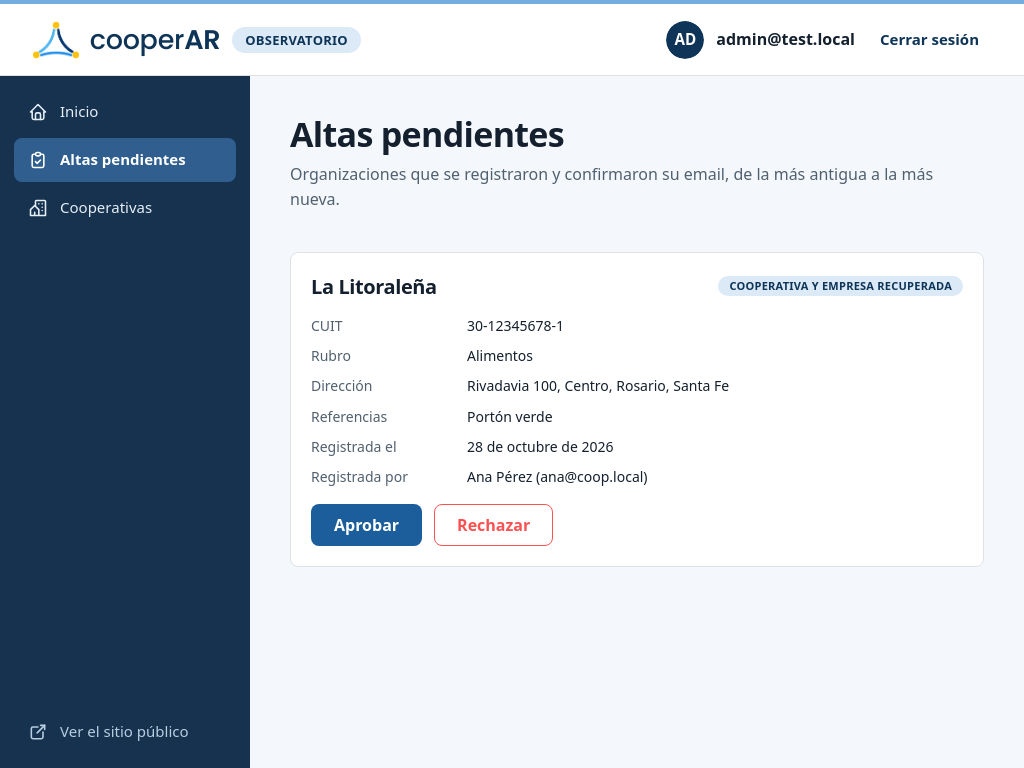
Test case: pending organizations › approves an organization and takes it off the queue
Step 1. Click the button "Aprobar" → point(367, 525), box [311, 504, 422, 546]
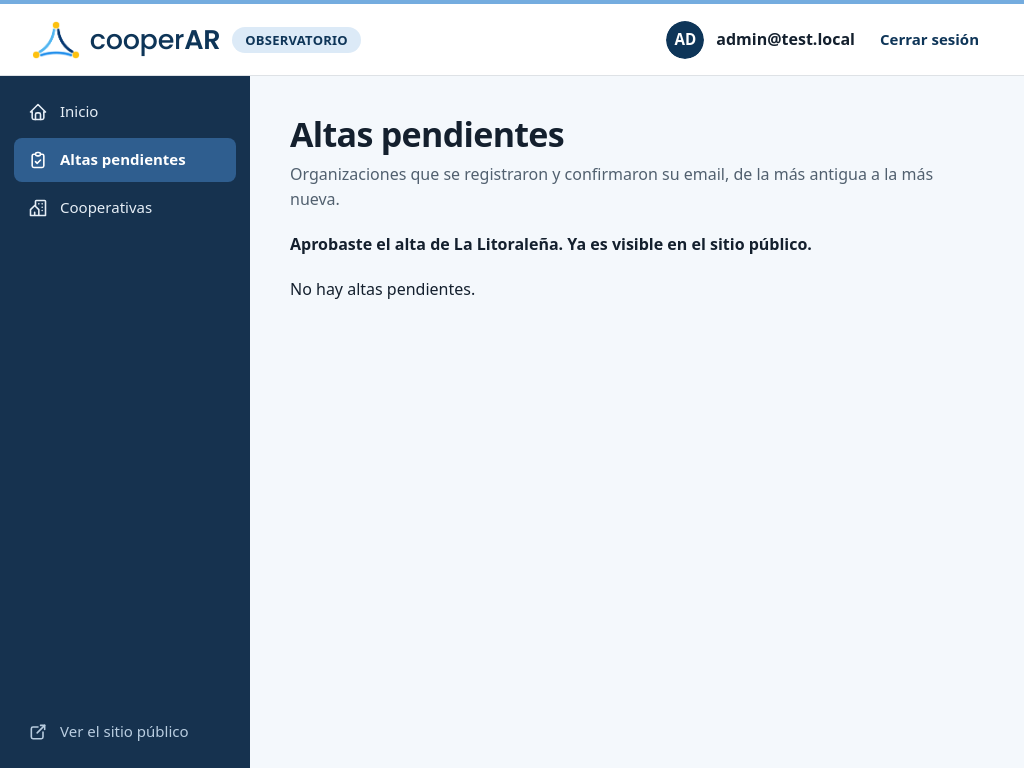
Result: the text "Aprobaste el alta de La Litoraleña. Ya es visible en el sitio público." is shown at [290, 233, 812, 255]
Result: the text "No hay altas pendientes." is shown at [290, 278, 475, 300]
